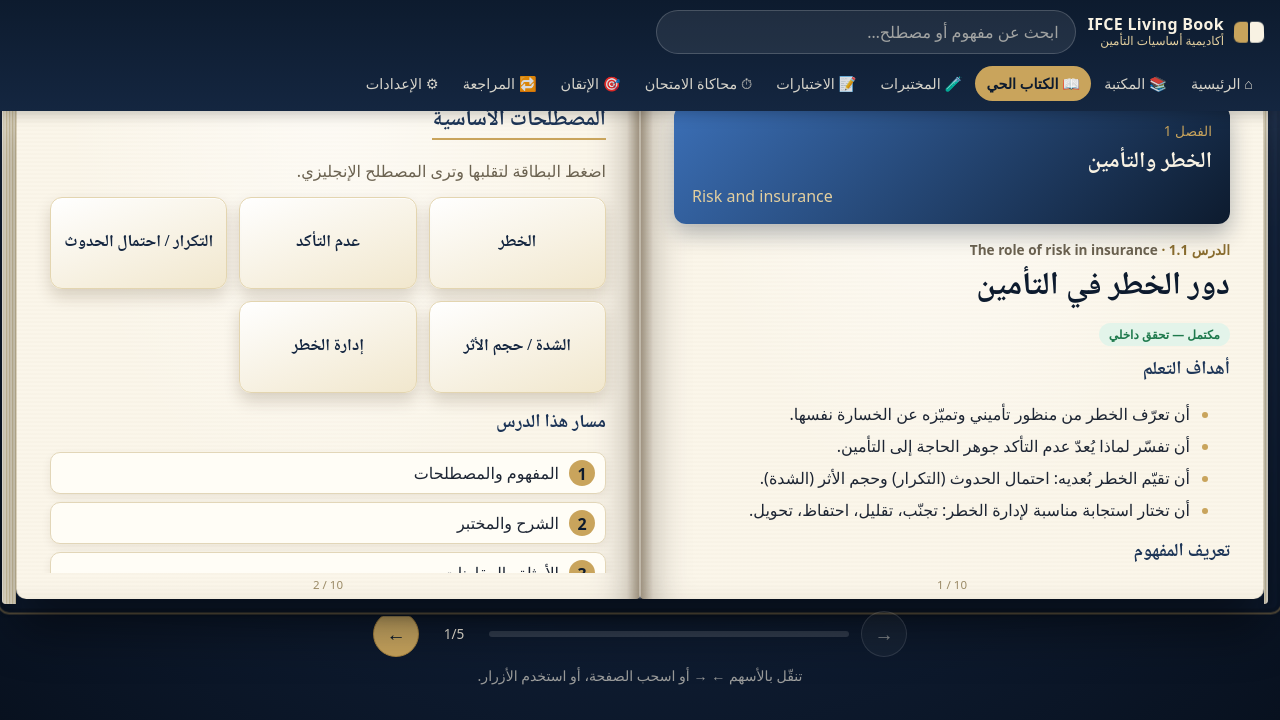
Scenario: navigation › opens the book and turns pages with buttons and the keyboard (RTL arrows)
(page scrolled)
expect the heading "دور الخطر في التأمين" is shown: met, box [976,260,1230,314]
Click the button named "الصفحة التالية".
click(396, 634)  # box [373,611,419,657]
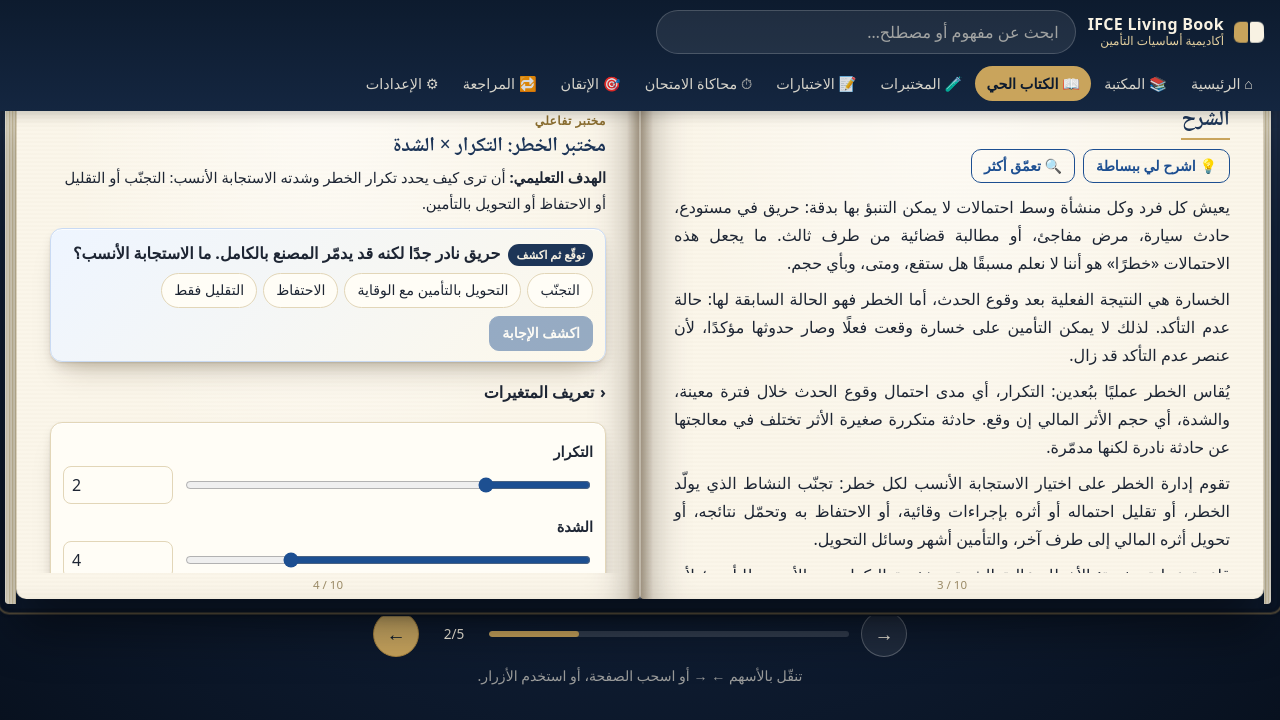
expect the heading "الشرح" is shown: met, box [1182,106,1230,140]
Press ArrowLeft
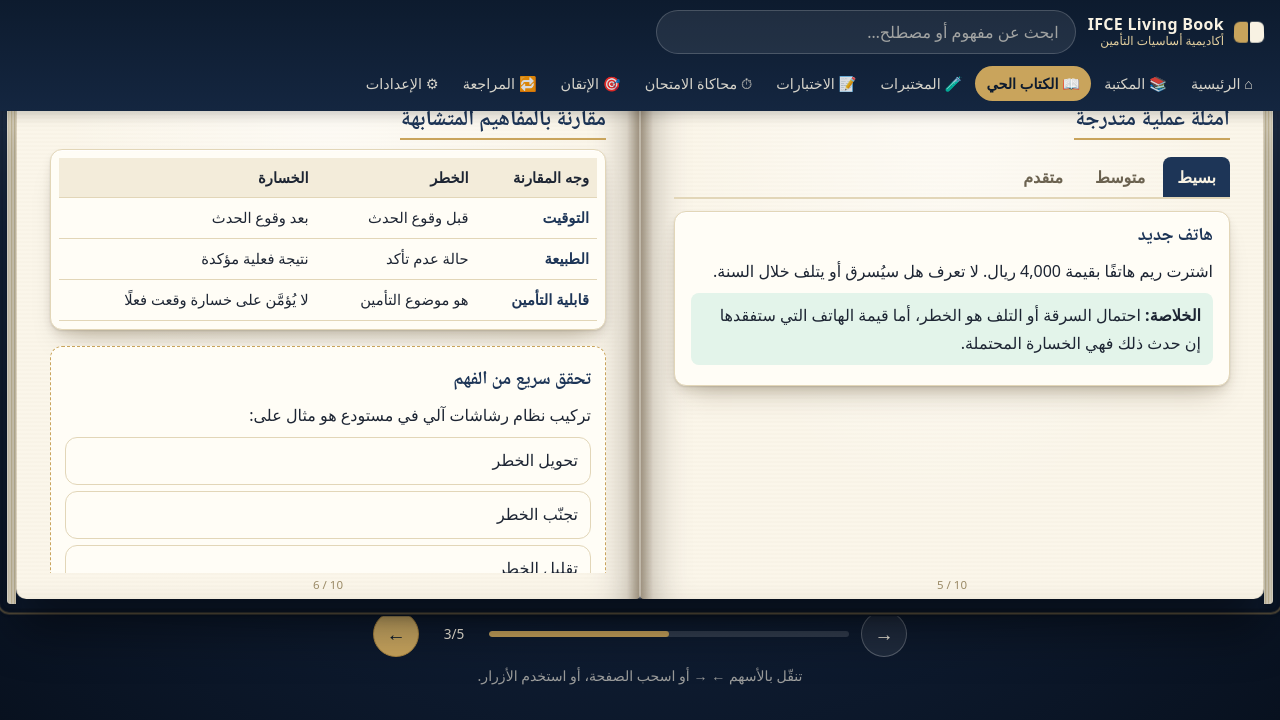
expect the heading "أمثلة عملية متدرجة" is shown: met, box [1074,106,1230,140]
Press ArrowRight
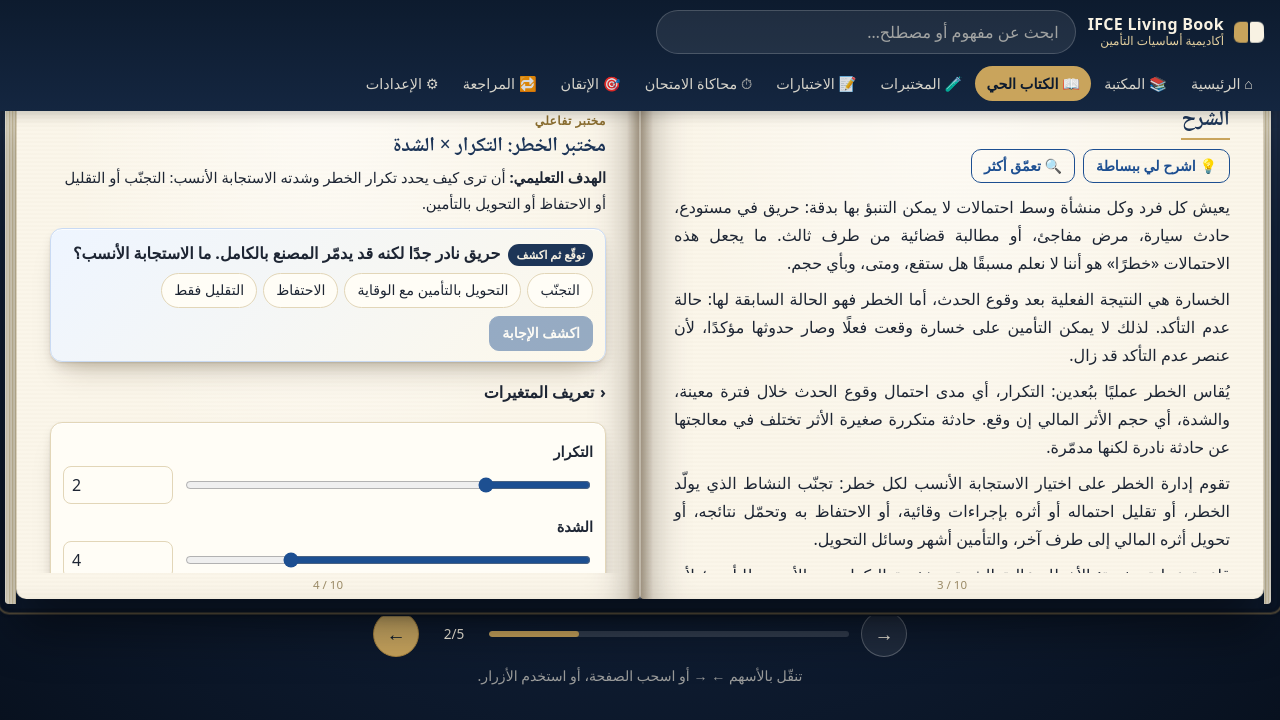
expect the heading "الشرح" is shown: met, box [1182,106,1230,140]
